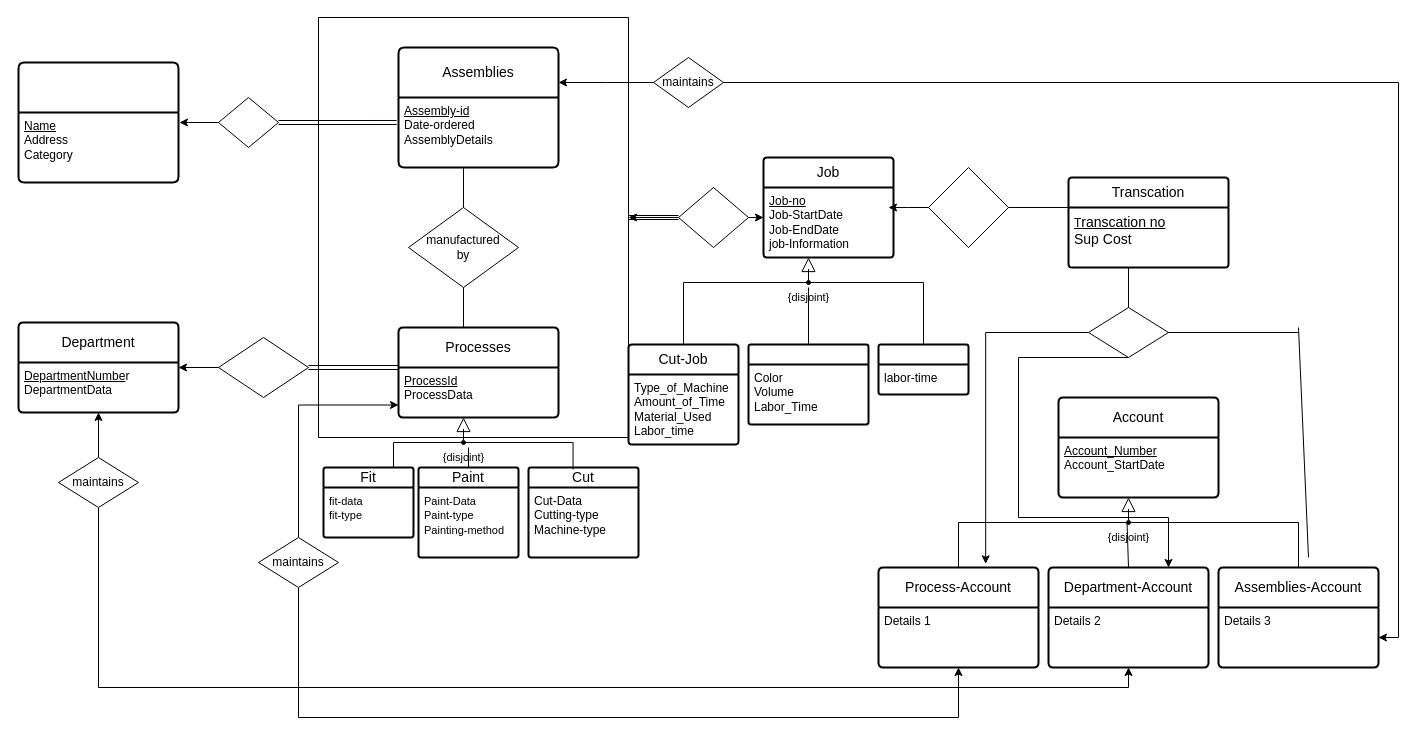
This 1424x743 diagram has some shape labels left out. Here are the shapes that lost their labels. From the top down, the box of each, then its label:
(17, 61, 179, 183): Customer
(218, 96, 278, 148): order
(678, 186, 748, 248): Assign
(928, 166, 1008, 248): records
(1088, 306, 1168, 358): updates
(218, 336, 308, 398): supervised by
(747, 343, 869, 425): Paint-Job
(877, 343, 969, 395): Fit_Job
